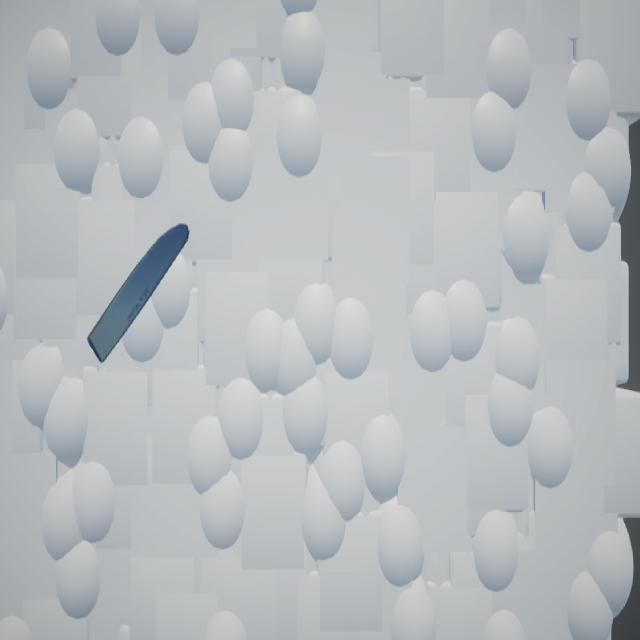top_knife: (88, 225, 191, 365)
